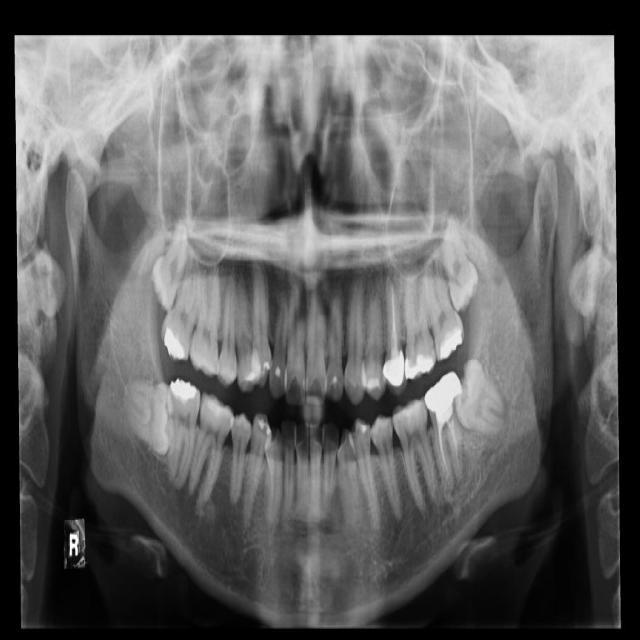Crown: (424, 371, 463, 414), (382, 354, 408, 398), (169, 380, 197, 401)
Filling: (164, 326, 186, 359)
Root Canal Treatment: (438, 428, 451, 484), (447, 420, 459, 472), (391, 285, 399, 356)
impacted tooth: (117, 377, 171, 455), (459, 360, 506, 432), (153, 217, 188, 311), (441, 216, 475, 309)
